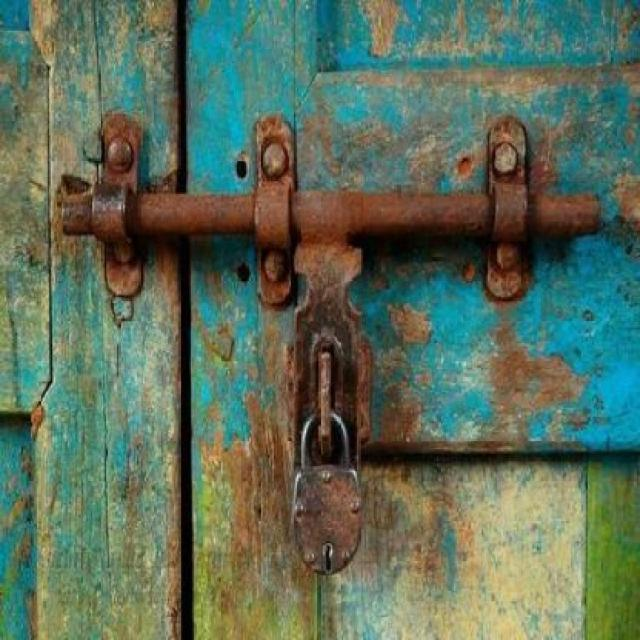corrosion: (55, 112, 603, 568)
